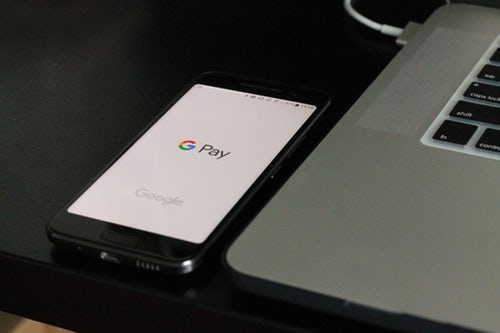phone: (54, 69, 333, 290)
